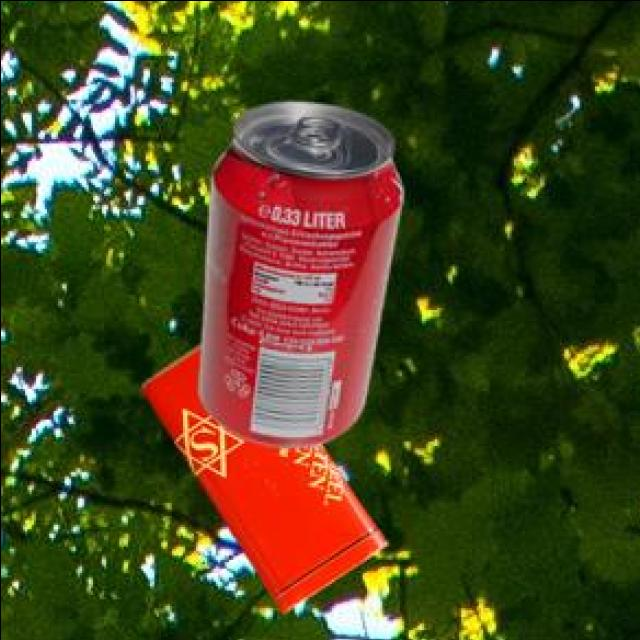logam: (194, 98, 398, 444), (135, 341, 382, 608)
